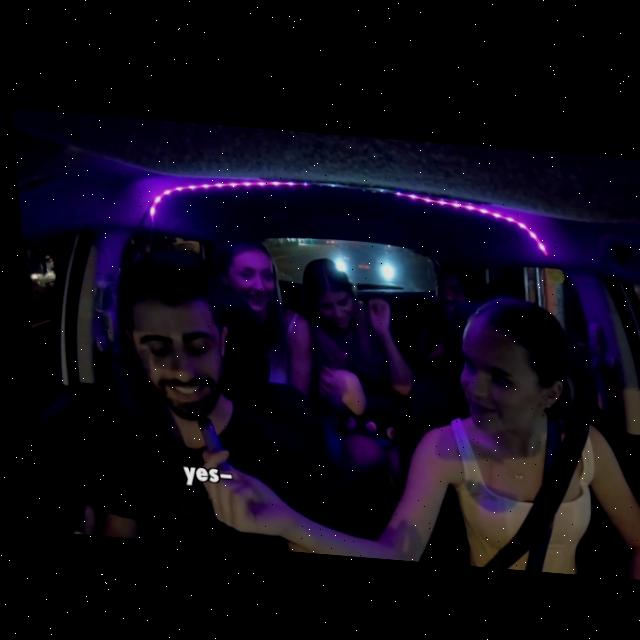vape: (187, 408, 214, 450)
